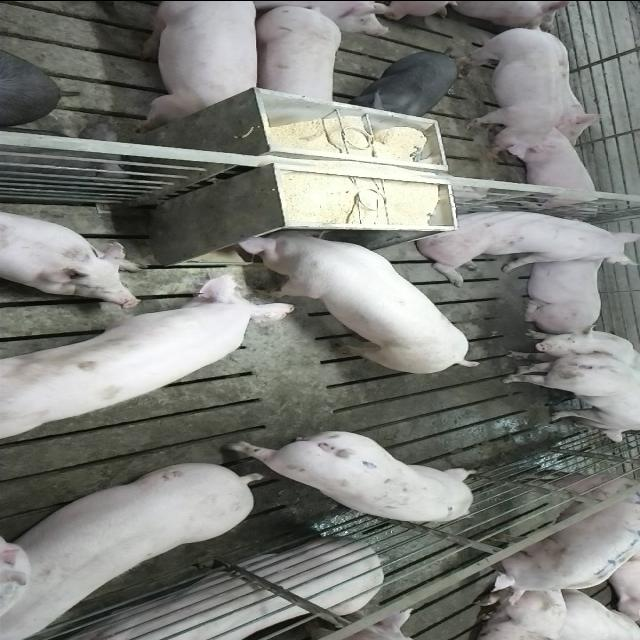Feeding: (1, 267, 292, 447), (231, 220, 478, 370)
Sitting: (414, 204, 636, 281), (498, 324, 638, 444)
Standing: (5, 456, 266, 635), (228, 428, 483, 522), (488, 466, 640, 604), (121, 2, 261, 126), (458, 21, 560, 157), (252, 6, 344, 114), (349, 47, 465, 117)
Sternal_lying: (51, 539, 392, 640), (0, 203, 143, 303), (508, 128, 604, 210), (518, 253, 608, 329)
